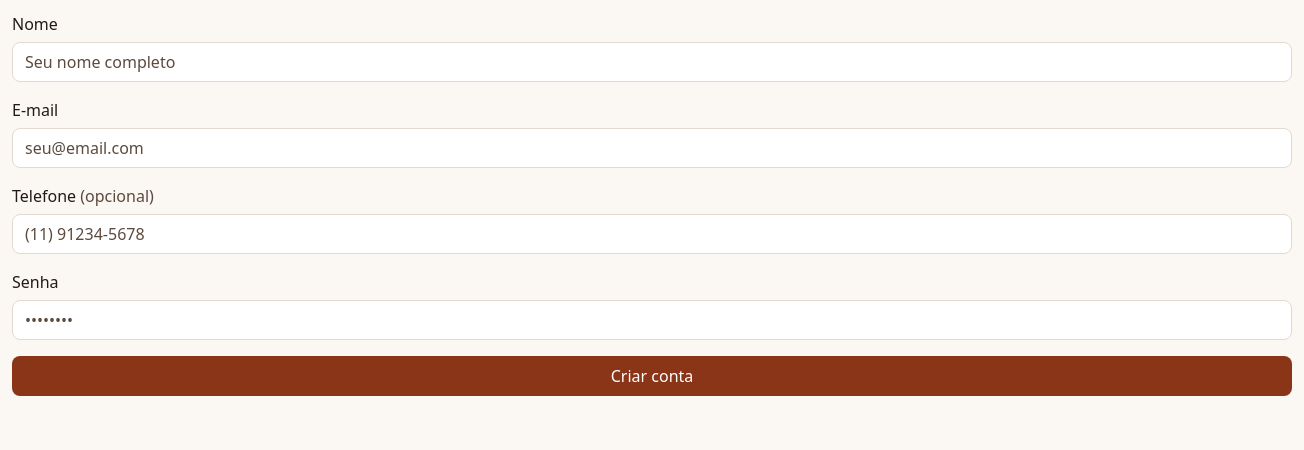
it: RegisterForm › shows the inline server error when the e-mail is already registered
In the field labelled "Nome": [652, 62] box [12,42,1292,82], type "Ana Souza"
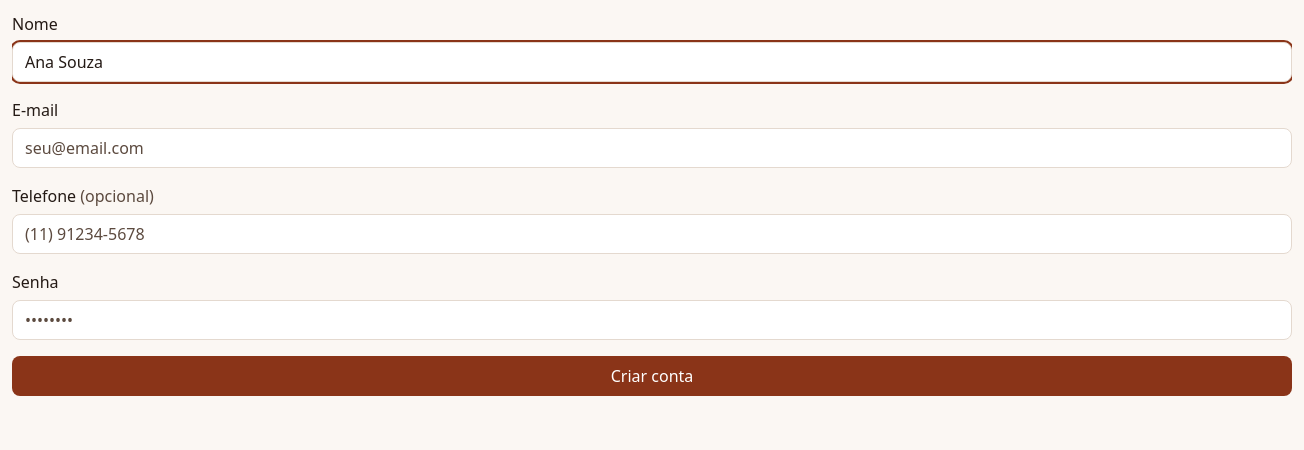
In the field labelled "E-mail": [652, 148] box [12,128,1292,168], type "ana@example.com"
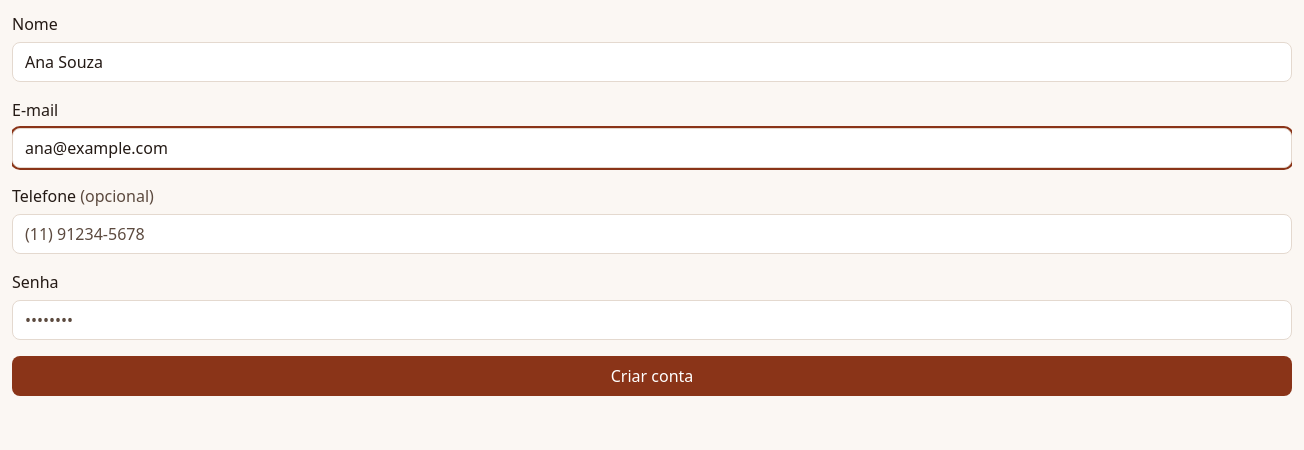
In the password field labelled "Senha": [652, 320] box [12,300,1292,340], type "password123"
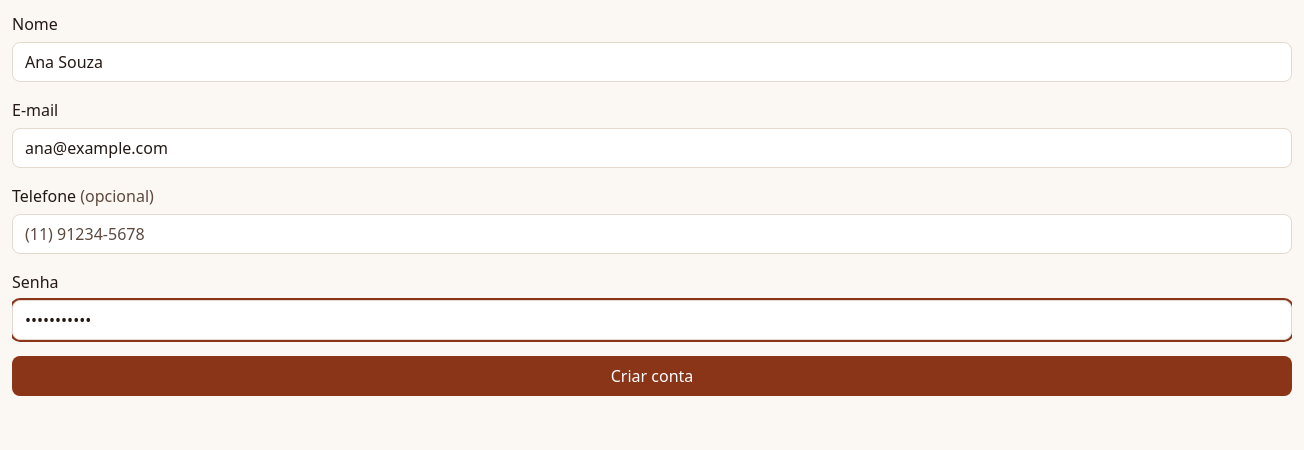
Click the button "Criar conta": [652, 376] box [12,356,1292,396]
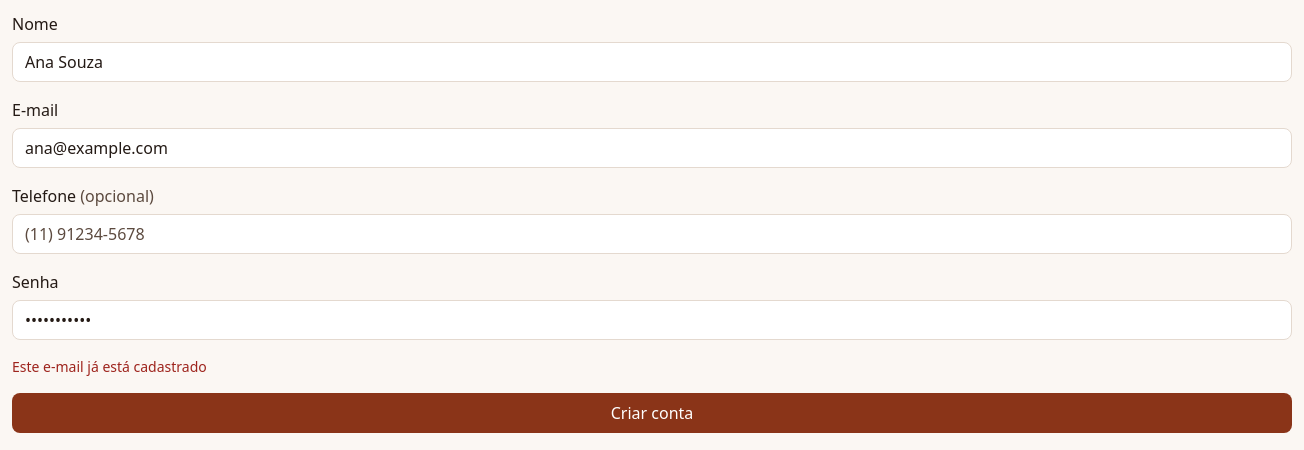
Now the text "Este e-mail já está cadastrado" is shown, box [12,357,207,376]
